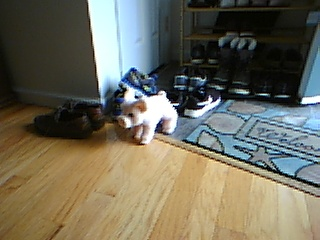piggy: (116, 86, 180, 146)
